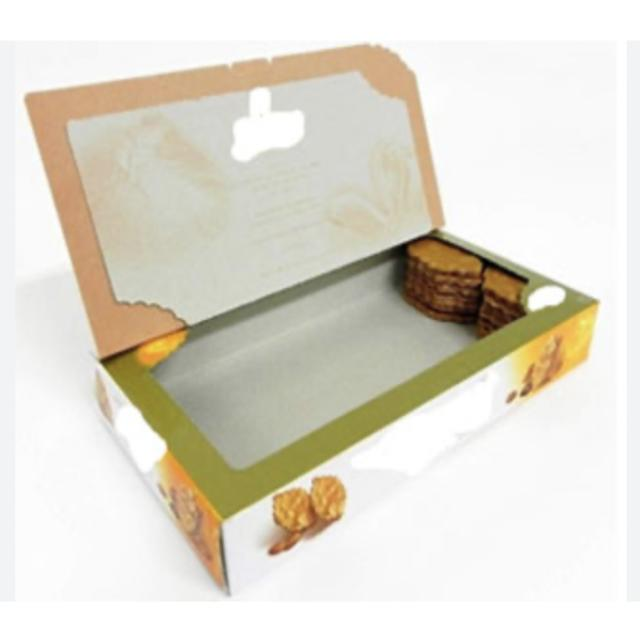biodegradable: (18, 30, 611, 597)
